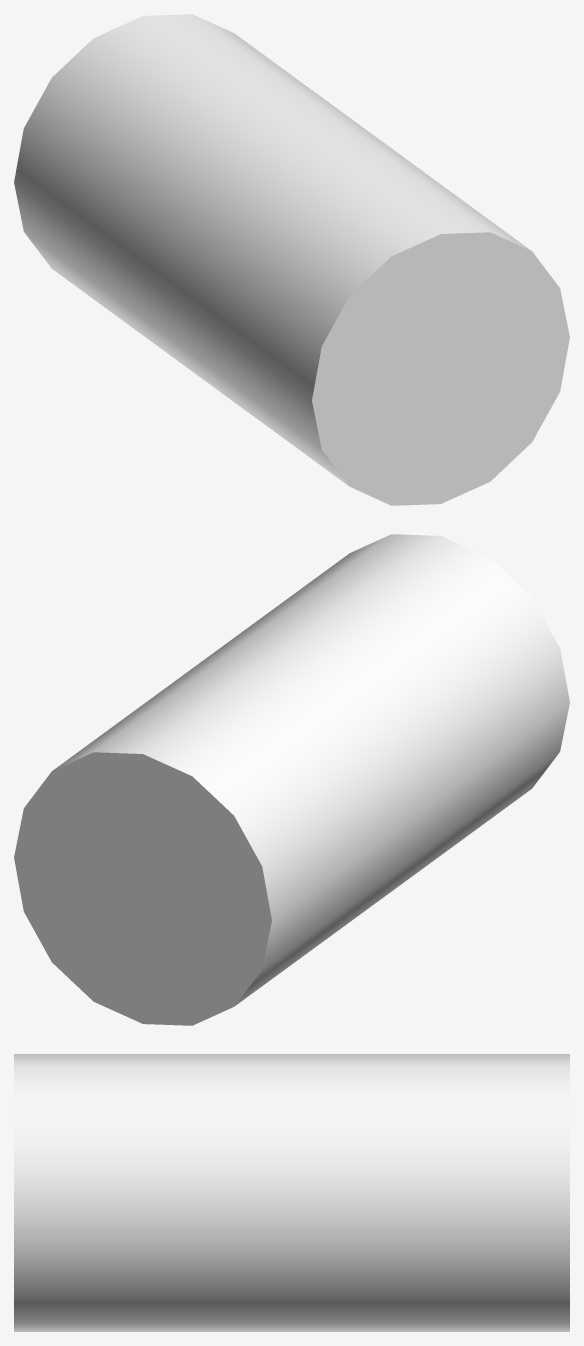
The model's file is Light_XiGuan_off.FBX.
3 views of the same model, one above another, from view 1: azimuth 30°, elevation 25°; view 2: azimuth 150°, elevation 25°; view 3: azimuth 270°, elevation 25° (orthographic). The views are drawn at different scales.
Parts seen in each view (by area): view 1: Box001; view 2: Box001; view 3: Box001.
Part boxes in pixels (box(x1,y1,x2,y2)): Box001: box(14, 14, 569, 505); Box001: box(14, 534, 569, 1025); Box001: box(14, 1054, 569, 1331).
Bounding box in the file's own units: 0.5 × 0.5 × 1.
